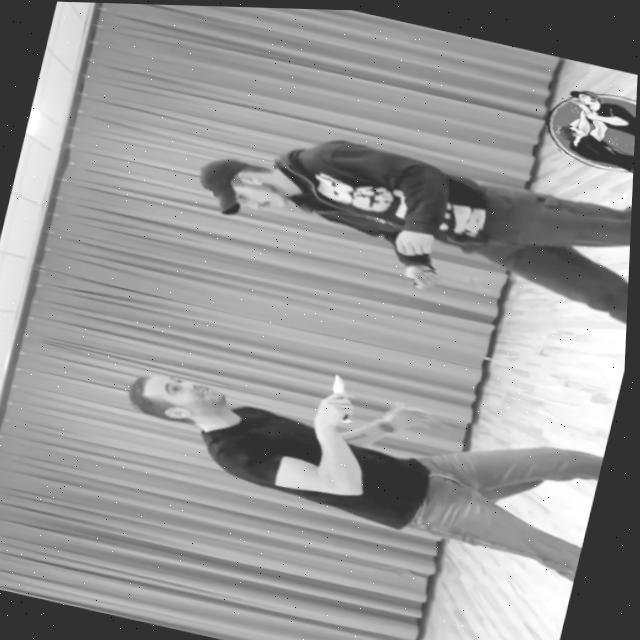knife: (333, 372, 351, 394)
